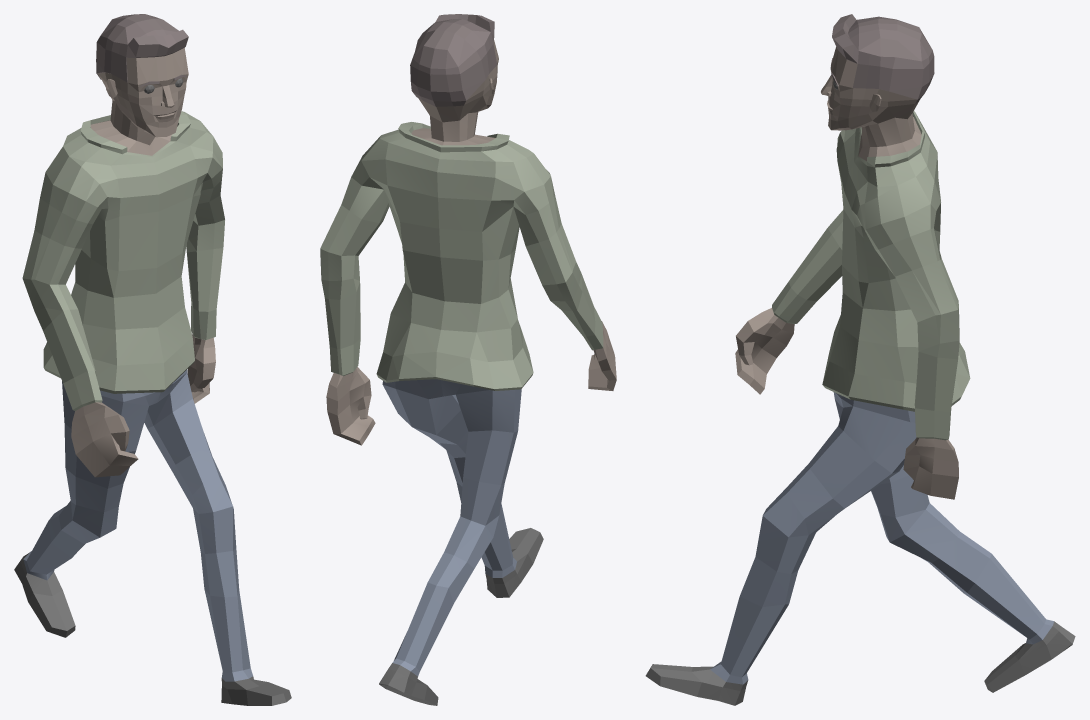
The model's file is walk-3.glb.
3 renders of one model, left to right at view 1: azimuth 30°, elevation 25°; view 2: azimuth 150°, elevation 25°; view 3: azimuth 270°, elevation 25°, orthographic. The views are drawn at different scales.
Parts seen in each view (by area): view 1: BaseHuman_baked; view 2: BaseHuman_baked; view 3: BaseHuman_baked.
Part boxes in pixels (left/top/right/bottom): BaseHuman_baked: left=14, top=14, right=291, bottom=705; BaseHuman_baked: left=320, top=14, right=616, bottom=705; BaseHuman_baked: left=645, top=14, right=1075, bottom=705.
Size of the model in its own units: 1.63 by 4.61 by 2.64.
